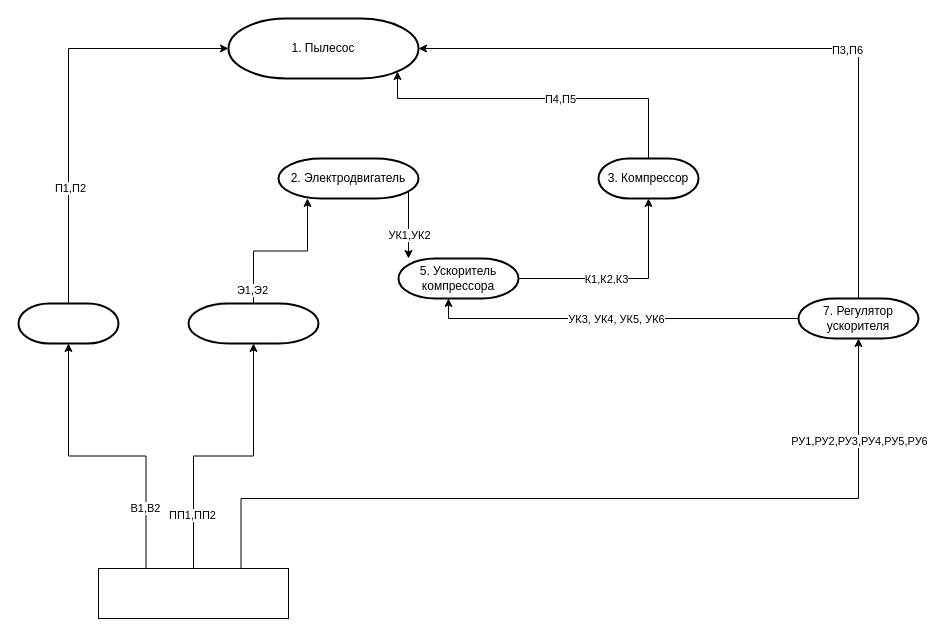
Image size: 944x636. Some labels were removed from this diagram. The shapes that lost their labels are listed below. From the top down, each one's centre as x and y in pixels, then its label:
At point 68,323: "6. Вилка".
At point 253,323: "4.Переключатель питания".
At point 193,593: "Пользователь".
